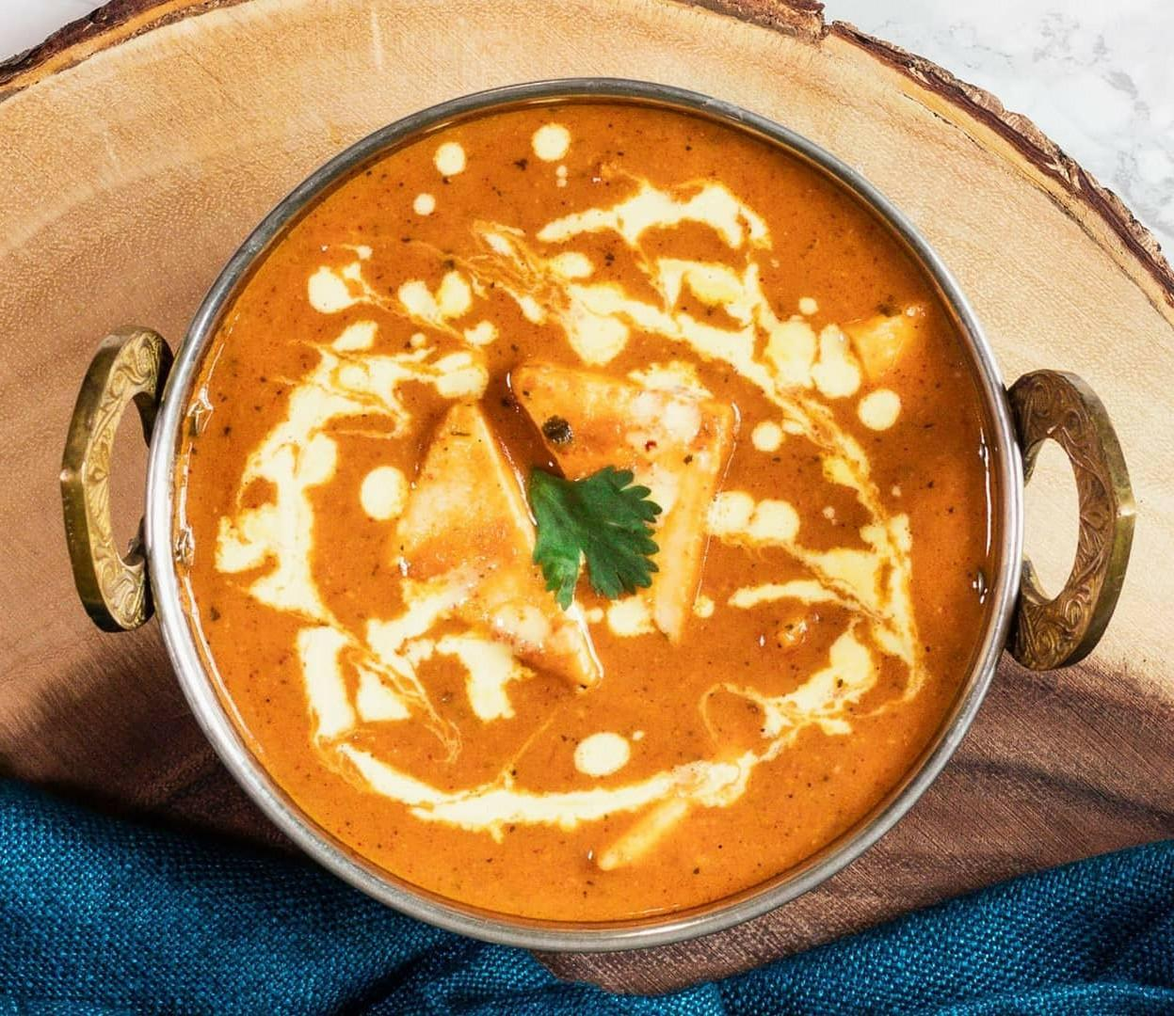ShahiPaneer: (174, 100, 995, 909)
